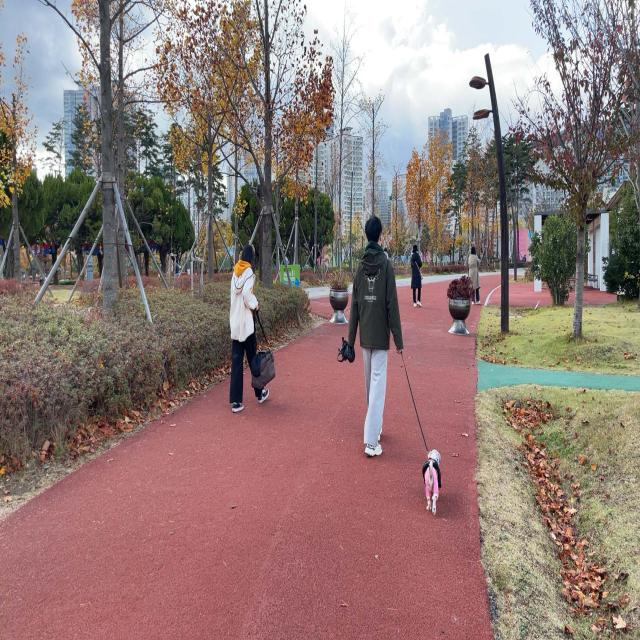Leashed_Dog: (379, 333, 442, 517)
